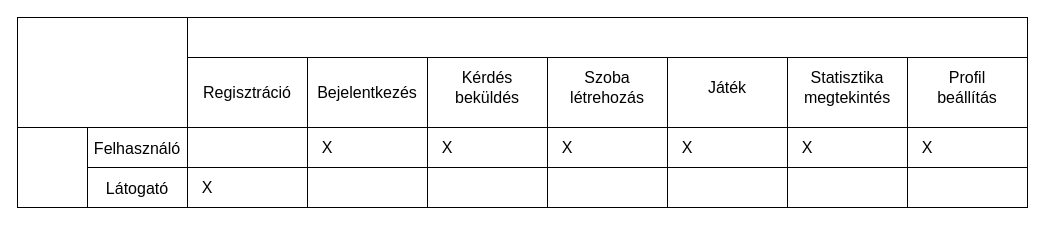
Image size: 1045x235. Some labels were removed from this diagram. Each missing label, with the box of its shape:
Funkciók: (186, 16, 1028, 58)
Szerepek: (16, 126, 88, 208)
